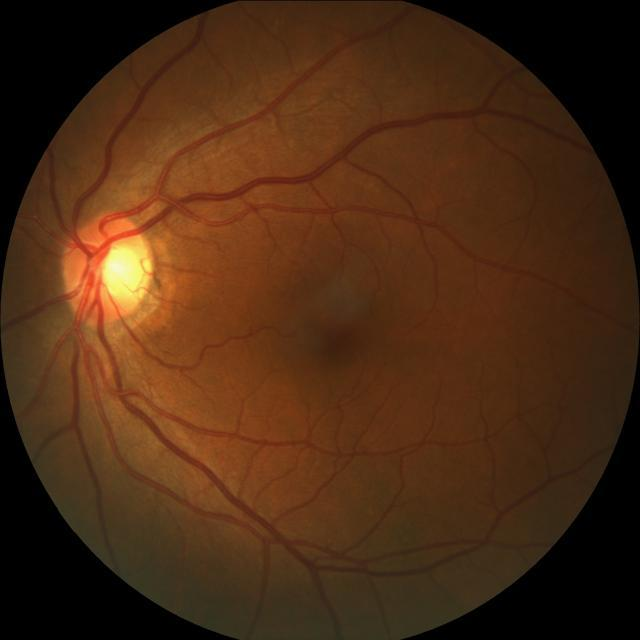OC: (101, 244, 151, 299)
OD: (64, 214, 156, 326)
